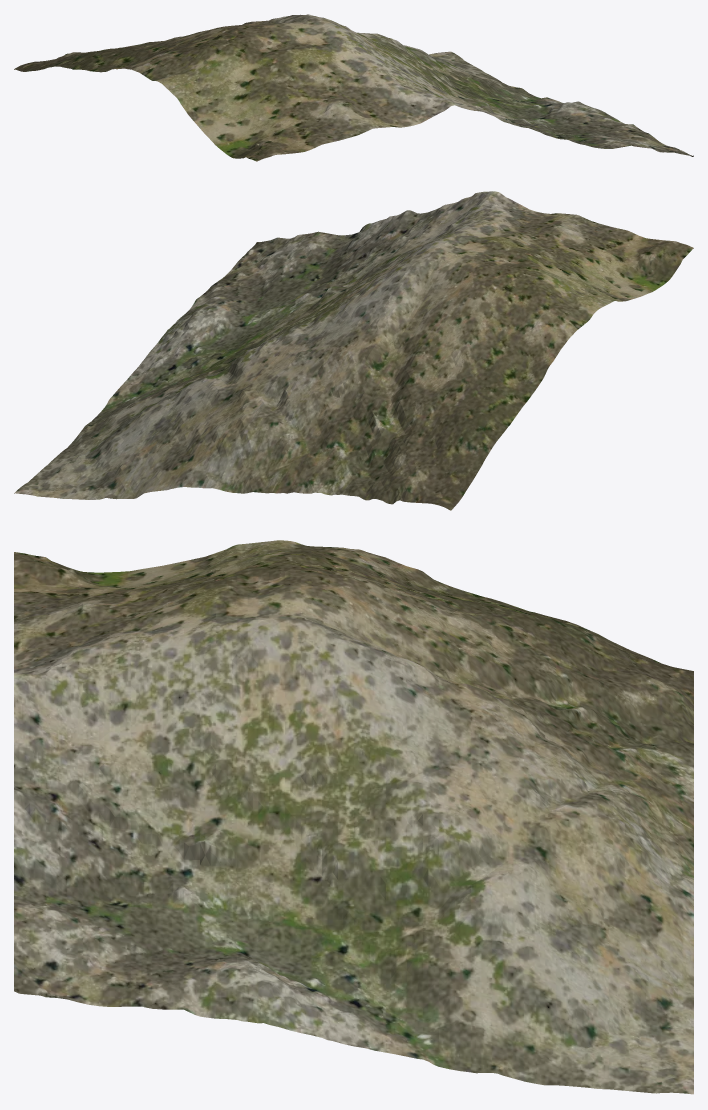
3 renders of one model, top to bottom at view 1: azimuth 30°, elevation 25°; view 2: azimuth 150°, elevation 25°; view 3: azimuth 270°, elevation 25°, orthographic. The views are drawn at different scales.
Size of the model in its own units: 500 by 226 by 481.
1 material, 1 textured.
